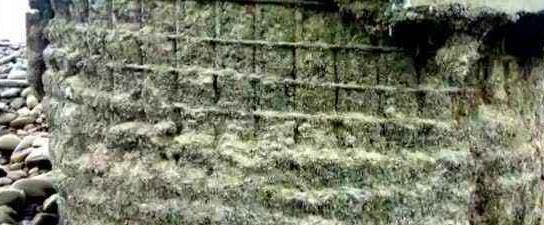Exposed reinforcement: (105, 60, 481, 97), (170, 102, 441, 132), (163, 35, 408, 55), (332, 1, 348, 143), (210, 1, 224, 145), (292, 1, 304, 145), (249, 1, 261, 139), (376, 39, 389, 147), (173, 1, 182, 135), (135, 1, 145, 121), (101, 1, 114, 92), (82, 1, 93, 76)
Spalling: (25, 1, 544, 225)
